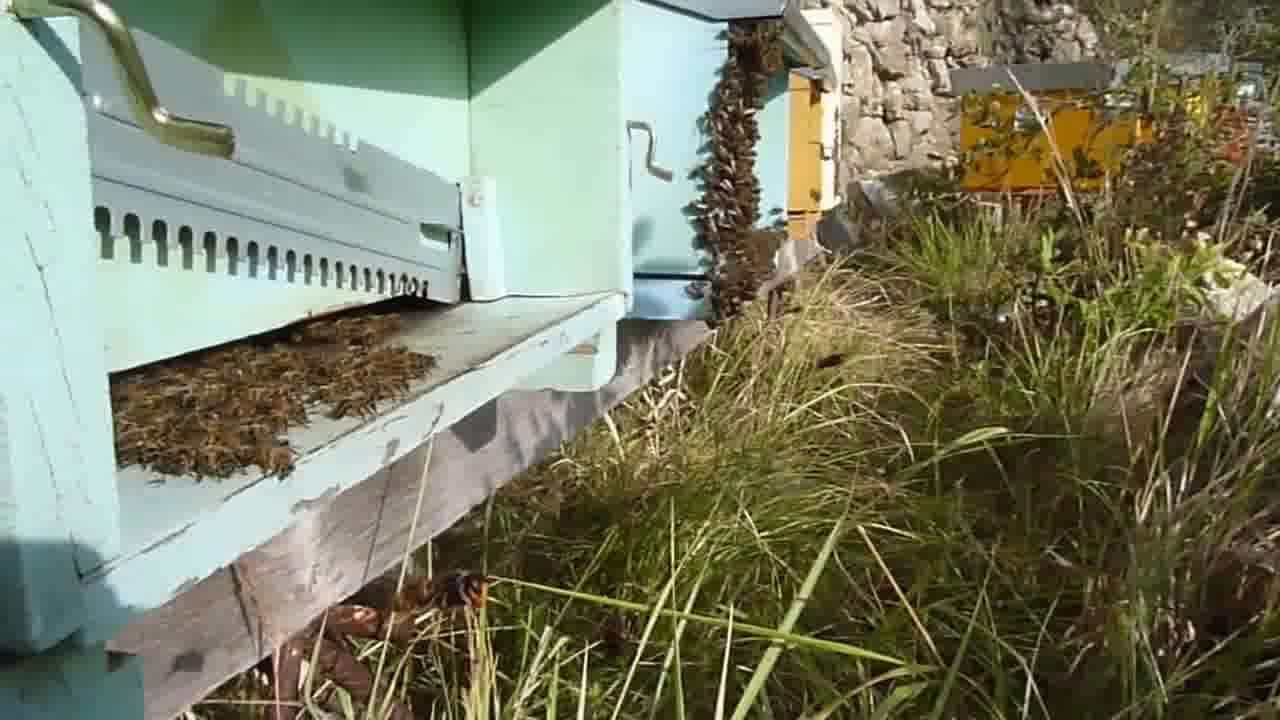bee: (104, 371, 302, 477), (314, 345, 433, 429), (686, 166, 762, 240), (697, 245, 774, 316), (718, 23, 786, 94), (706, 96, 771, 165), (311, 317, 398, 342)
hornet: (410, 566, 498, 622)
